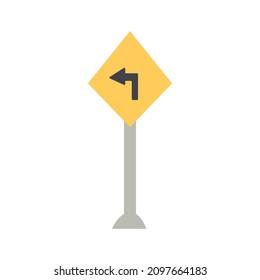Left hand curve: (76, 27, 179, 122)
